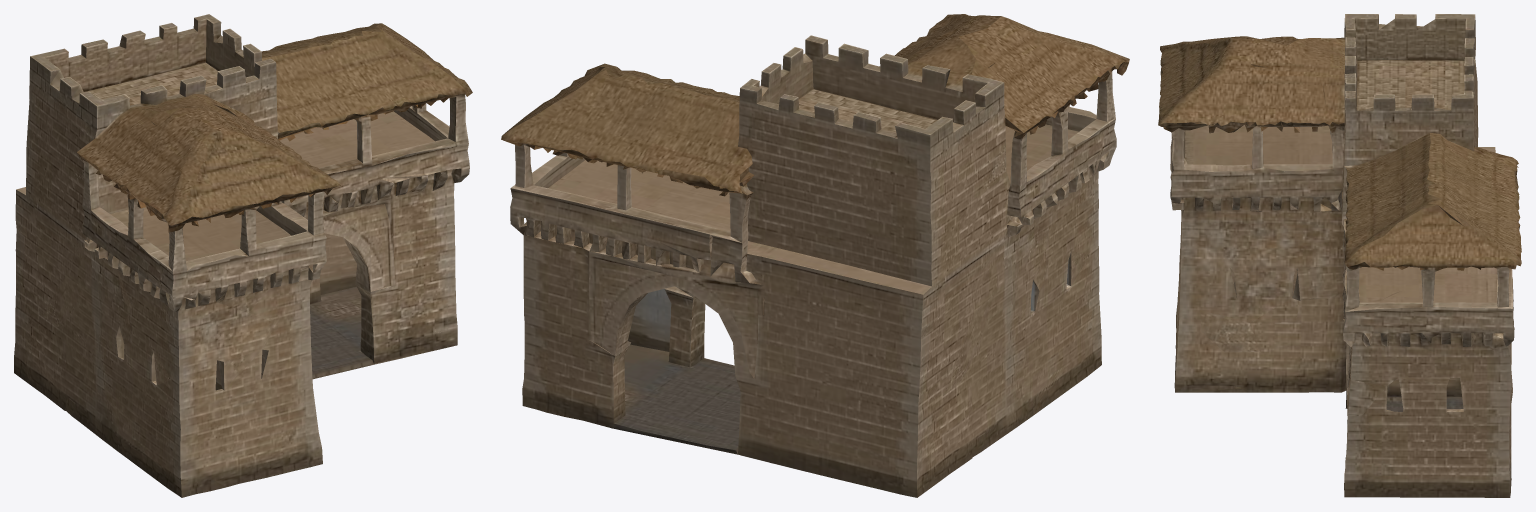
File: fort_m_citadel_gate.glb
The picture shows the model from 3 angles, left to right: view 1: azimuth 30°, elevation 25°; view 2: azimuth 150°, elevation 25°; view 3: azimuth 270°, elevation 25°; orthographic projection. The views are drawn at different scales.
Visible parts, largest first — view 1: fort_m_citadel_gate; view 2: fort_m_citadel_gate; view 3: fort_m_citadel_gate.
Part boxes in pixels (x1=…): fort_m_citadel_gate: x1=14, y1=14, x2=472, y2=497; fort_m_citadel_gate: x1=501, y1=14, x2=1129, y2=497; fort_m_citadel_gate: x1=1158, y1=14, x2=1521, y2=497.
Size of the model in its own units: 1.9 by 1.49 by 1.55.
Materials: 1 (1 with a texture image).
